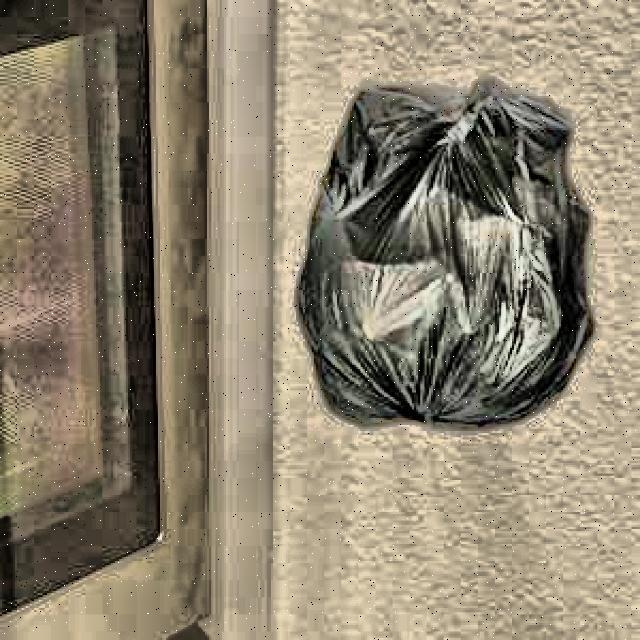Trashbag: (279, 69, 597, 440)
